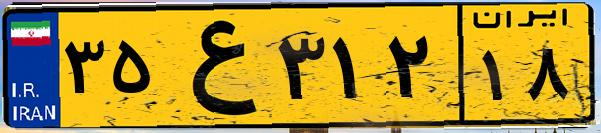1: (330, 28, 385, 110), (475, 38, 525, 113)
2: (385, 28, 445, 110)
3: (270, 28, 330, 110), (57, 26, 110, 100)
5: (110, 28, 158, 98)
8: (525, 38, 570, 115)
ع: (158, 12, 270, 120)
